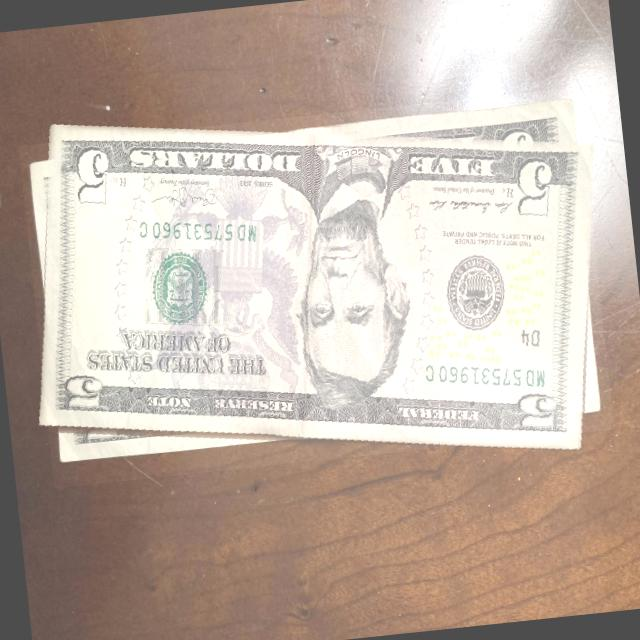five: (18, 87, 614, 488)
